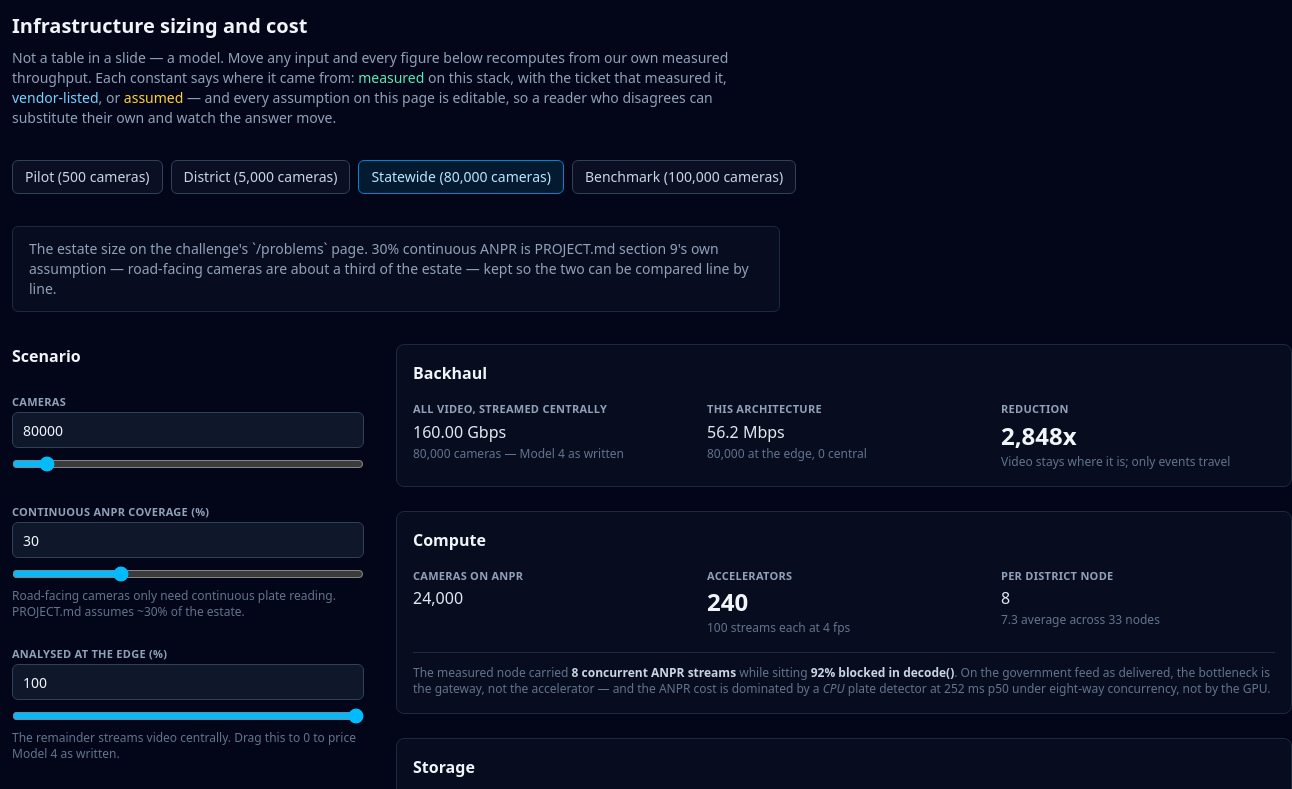
the sizing calculator recomputes from its inputs (AC 1) › recomputes accelerators when ANPR coverage changes
Replace the text in the number field labelled "Continuous ANPR coverage (%)" with "60". click: (188, 540)
box: [12, 522, 364, 558]
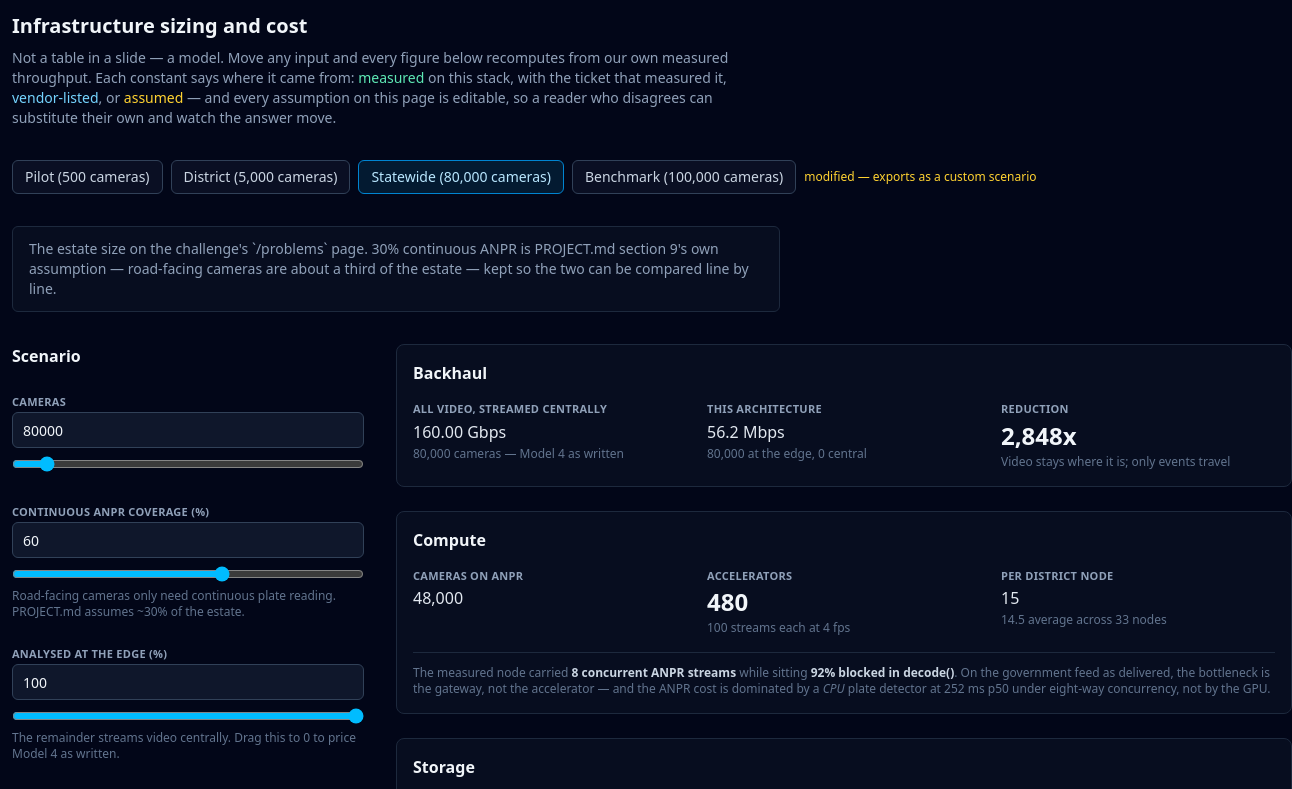
Result: the element with test id "compute" shows "48,000" at [413, 587, 463, 609]
